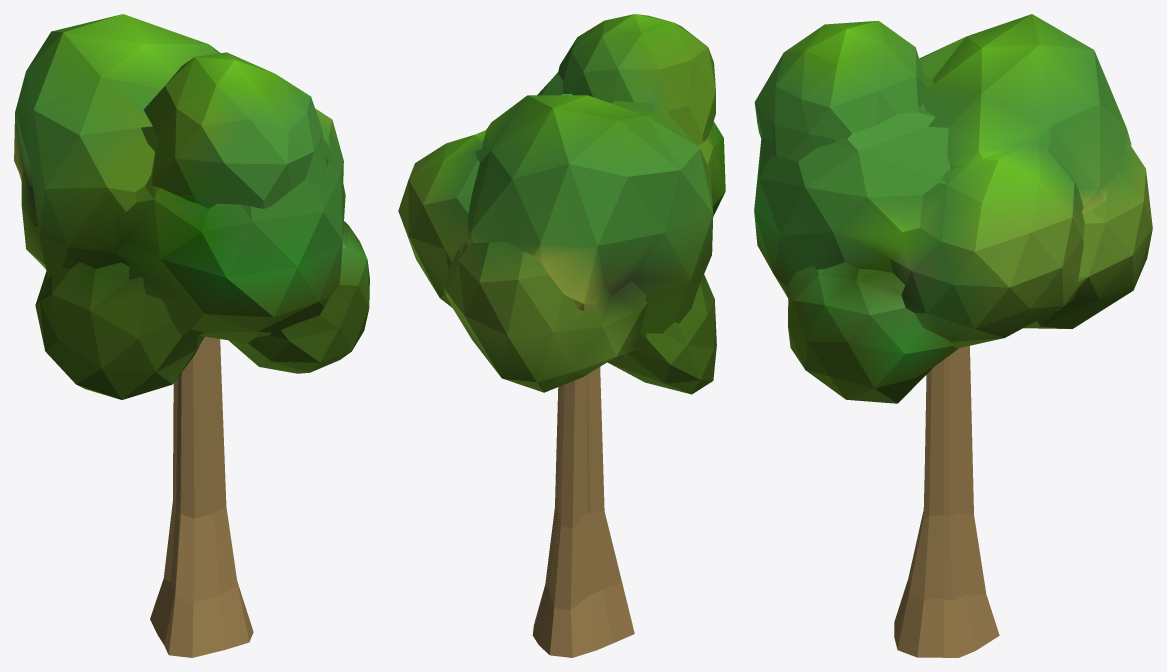
The model's file is tree.gltf.
3 views of the same model, side by side, from view 1: azimuth 30°, elevation 25°; view 2: azimuth 150°, elevation 25°; view 3: azimuth 270°, elevation 25° (orthographic). The views are drawn at different scales.
Parts seen in each view (by area): view 1: Tree; view 2: Tree; view 3: Tree.
Part boxes in pixels (<box>): Tree: <box>14,14,369,657</box>; Tree: <box>398,14,725,657</box>; Tree: <box>754,14,1152,657</box>.
Bounding box in the file's own units: 5.18 × 10.18 × 6.08.
